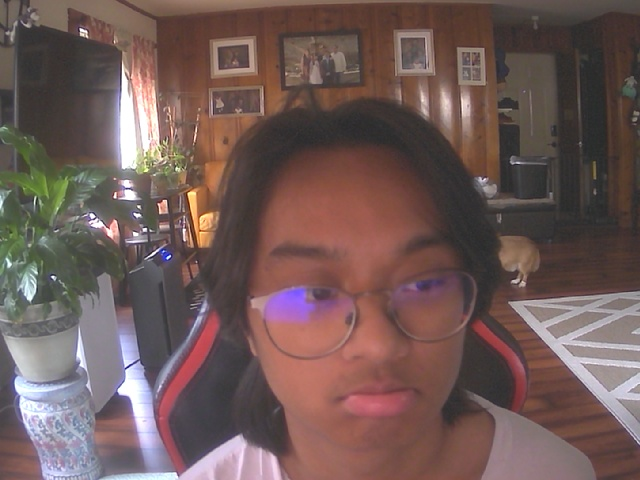sad: (229, 108, 493, 455)
